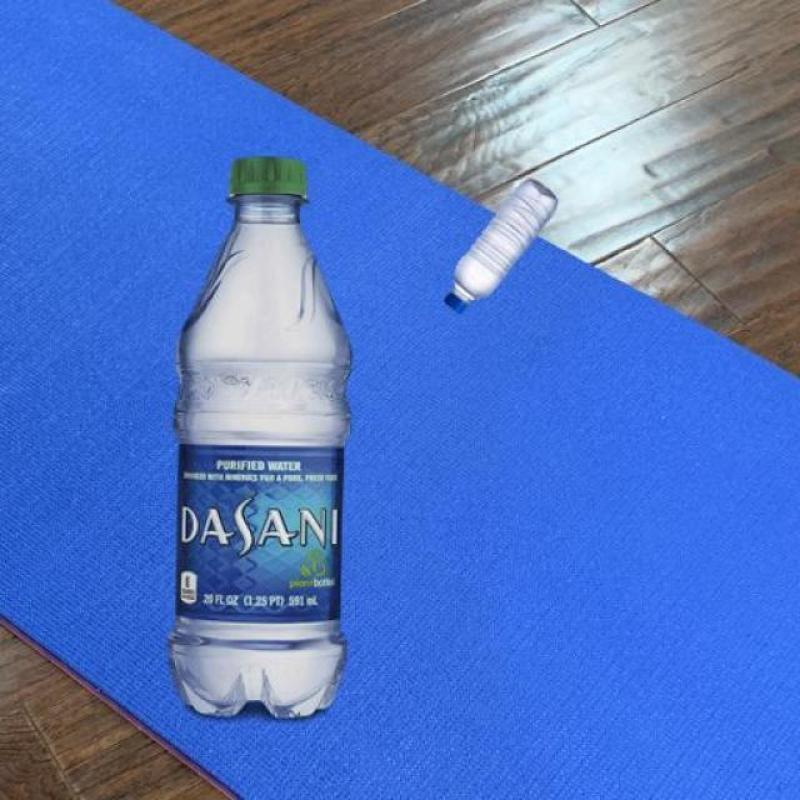botella: (168, 154, 356, 718), (441, 176, 559, 312)
